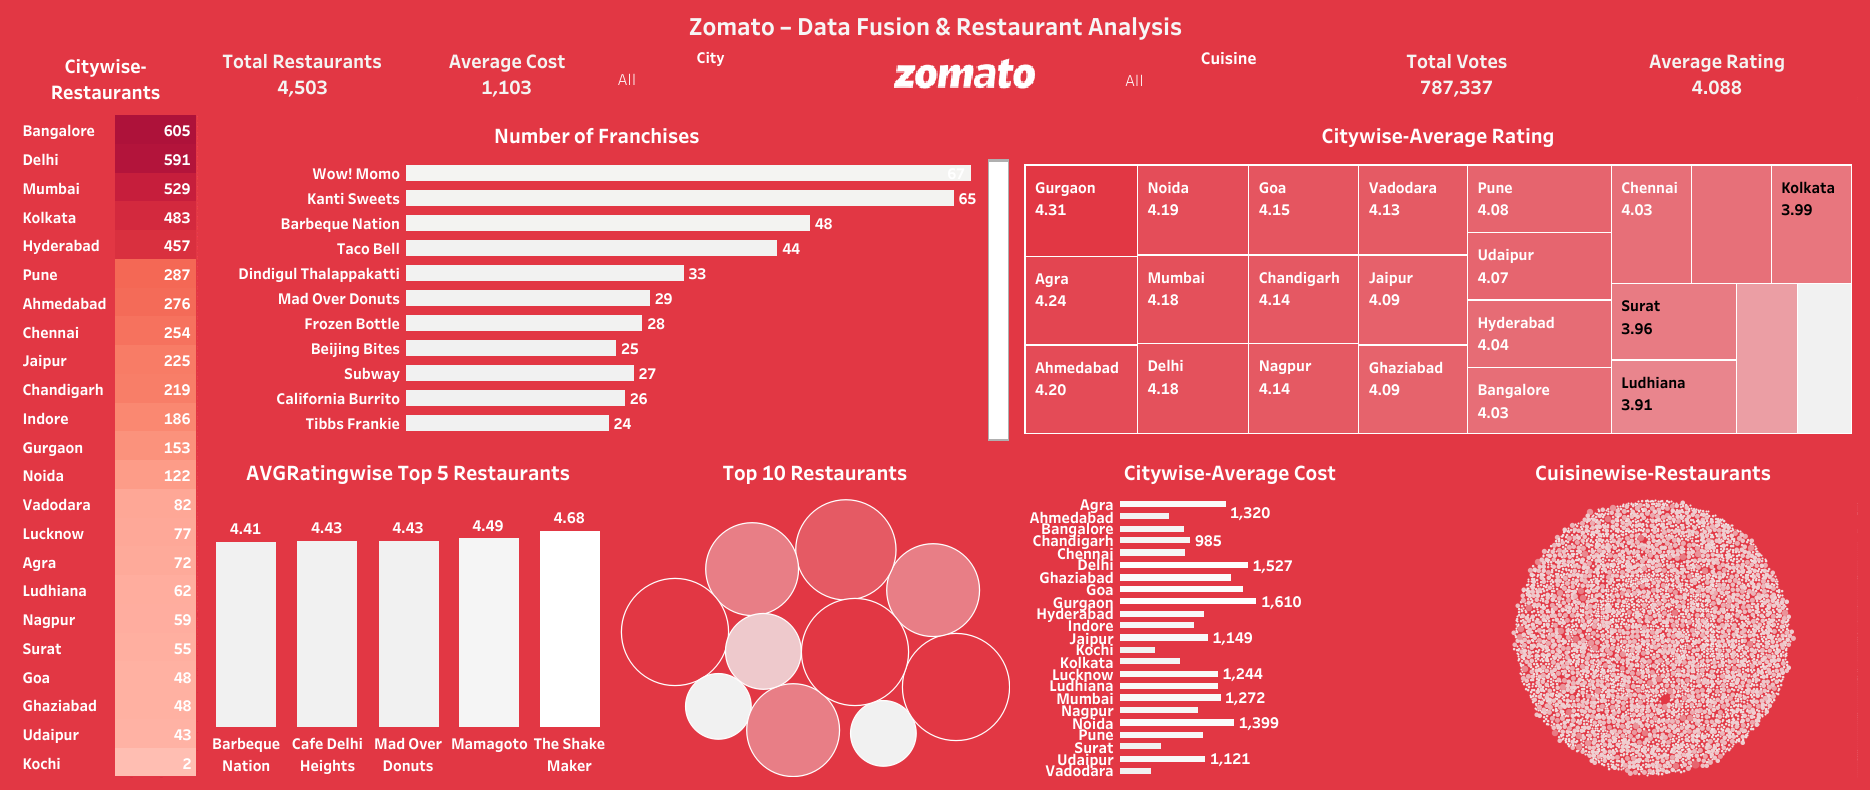

Layout of this report page (visuals, bound fields, positions):
{"tool":"tableau","page":{"name":"Zomato Dashboard","canvas":[1000,1000],"units":"permille","ordinal":1},"visuals":[{"type":"text","box":[4.8,9.3,990.4,37.1]},{"type":"worksheet","title":"Citywise- Restaurants","mark":"Square","rows":["City"],"box":[4.8,46.4,102.2,944.3]},{"type":"worksheet","title":"Total Restaurants","mark":"Automatic","box":[107,46.4,109.3,87.1]},{"type":"worksheet","title":"Average cost","mark":"Automatic","box":[216.3,46.4,109.3,87.1]},{"type":"filter","title":"Citywise- Restaurants","param":"[federated.1ql3zid1xflxtg185qs0p1errlix].[none:City:nk]","box":[325.5,46.4,108,87.1]},{"type":"image","param":"Image/Zomato logo png.png","box":[433.5,46.4,163.5,87.1]},{"type":"filter","title":"Cuisinewise-Restaurants","param":"[federated.1ql3zid1xflxtg185qs0p1errlix].[none:Cuisine:nk]","box":[597,46.4,119,87.1]},{"type":"worksheet","title":"Total of votes","mark":"Automatic","box":[716,46.4,125.2,87.1]},{"type":"worksheet","title":"Average of rating","mark":"Automatic","box":[841.2,46.4,154,87.1]},{"type":"worksheet","title":"Number of Franchises","mark":"Automatic","rows":["Name"],"cols":["Location_76E88813F36F471686E1B070CAF97516"],"box":[107,133.5,435.4,428.5]},{"type":"worksheet","title":"Citywise-Average Rating","mark":"Automatic","box":[542.4,133.5,452.8,428.6]},{"type":"worksheet","title":"AVGRatingwise Top 5 Restaurants","mark":"Bar","rows":["Rating"],"cols":["Name"],"box":[107,562.1,221.3,428.7]},{"type":"worksheet","title":"Top 10  Restaurants","mark":"Circle","box":[328.3,562.1,214.1,428.7]},{"type":"worksheet","title":"Citywise-Average Cost","mark":"Bar","rows":["City"],"cols":["Cost"],"box":[542.4,562.1,230,428.6]},{"type":"worksheet","title":"Cuisinewise-Restaurants","mark":"Circle","box":[772.4,562.1,222.8,428.6]}]}

Visuals, with their boxes on the dashboard's canvas, which has no fixed pixel size, in thousandths of its width and height (x1, y1, x2, y2). These are canvas units, not pixel positions in the 1870x790 screenshot, which may show the page scaled, cropped or inside an application window:
text: locate(5, 9, 995, 46)
"Citywise- Restaurants" worksheet (Square marks): locate(5, 46, 107, 991)
"Total Restaurants" worksheet: locate(107, 46, 216, 134)
"Average cost" worksheet: locate(216, 46, 326, 134)
"Citywise- Restaurants" filter: locate(326, 46, 434, 134)
image: locate(434, 46, 597, 134)
"Cuisinewise-Restaurants" filter: locate(597, 46, 716, 134)
"Total of votes" worksheet: locate(716, 46, 841, 134)
"Average of rating" worksheet: locate(841, 46, 995, 134)
"Number of Franchises" worksheet: locate(107, 134, 542, 562)
"Citywise-Average Rating" worksheet: locate(542, 134, 995, 562)
"AVGRatingwise Top 5 Restaurants" worksheet (Bar marks): locate(107, 562, 328, 991)
"Top 10  Restaurants" worksheet (Circle marks): locate(328, 562, 542, 991)
"Citywise-Average Cost" worksheet (Bar marks): locate(542, 562, 772, 991)
"Cuisinewise-Restaurants" worksheet (Circle marks): locate(772, 562, 995, 991)
